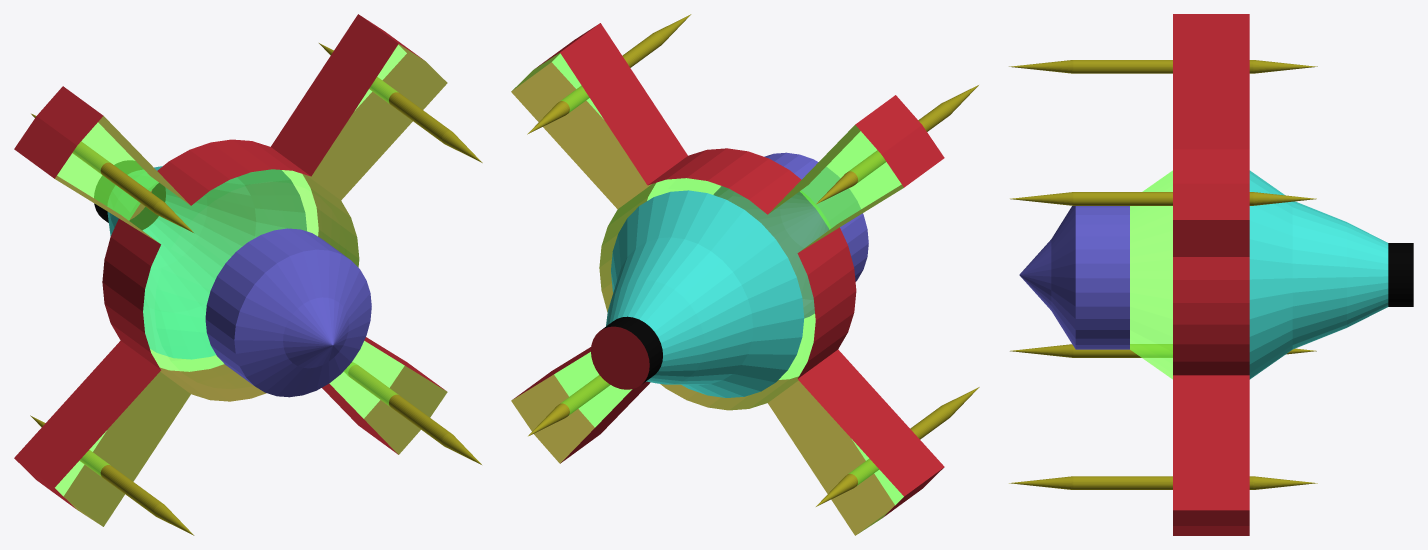
File: chaser.glb
The picture shows the model from 3 angles, left to right: view 1: azimuth 30°, elevation 25°; view 2: azimuth 150°, elevation 25°; view 3: azimuth 270°, elevation 25°; orthographic projection. The views are drawn at different scales.
Visible parts, largest first — view 1: Cylinder.001; view 2: Cylinder.001; view 3: Cylinder.001.
Boxes of the visible parts, x1,y1,x2,y2 form: Cylinder.001: (14, 14, 482, 535); Cylinder.001: (511, 14, 979, 535); Cylinder.001: (1009, 14, 1413, 535).
Bounding box in the file's own units: 4.06 × 4.06 × 3.86.
